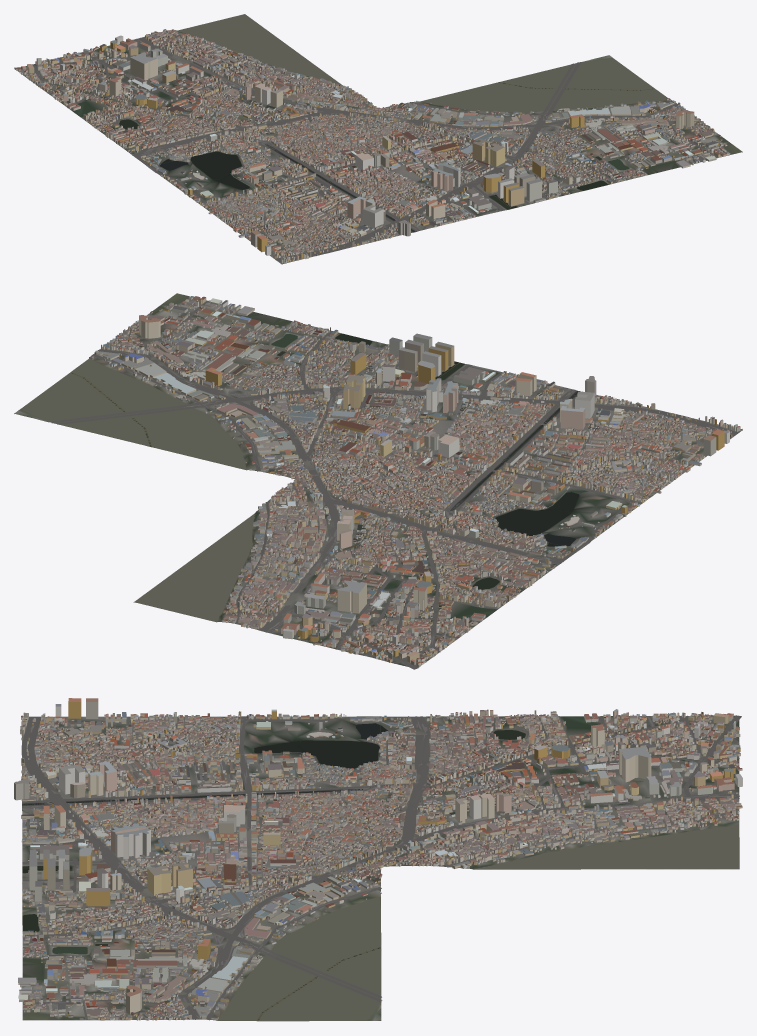
The picture shows the model from 3 angles, top to bottom: view 1: azimuth 30°, elevation 25°; view 2: azimuth 150°, elevation 25°; view 3: azimuth 270°, elevation 25°; orthographic projection. The views are drawn at different scales.
Parts seen in each view (by area): view 1: buildings, ground, water, roads; view 2: buildings, ground, water, roads; view 3: buildings, ground, water, roads.
Part boxes in pixels (x1,y1,x2,y2): buildings: (16,29,730,264); ground: (17,30,742,263); water: (119,14,667,232); roads: (14,33,718,262); buildings: (89,296,742,667); ground: (14,293,742,667); water: (21,333,580,621); roads: (49,300,738,669); buildings: (14,698,742,1020); ground: (22,715,739,1021); water: (22,723,739,1020); roads: (21,715,741,1020).
Bounding box in the file's own units: 2830 × 110 × 2850.
